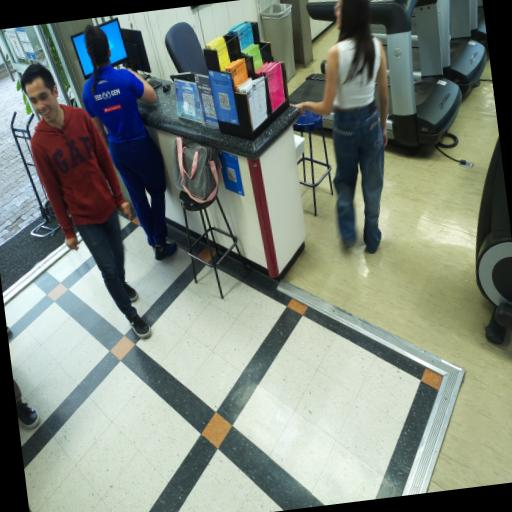person: (21, 63, 151, 338), (297, 0, 388, 253), (83, 25, 176, 260), (13, 380, 39, 428)
